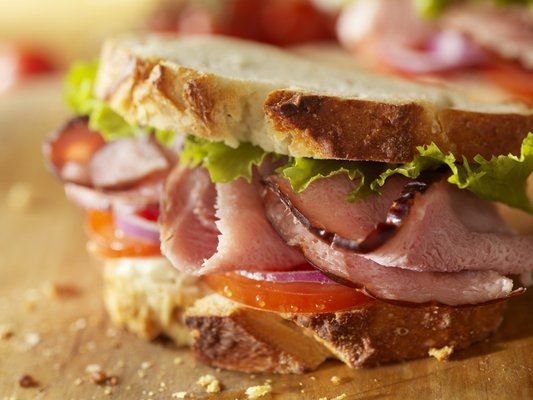soup: (52, 17, 533, 397)
